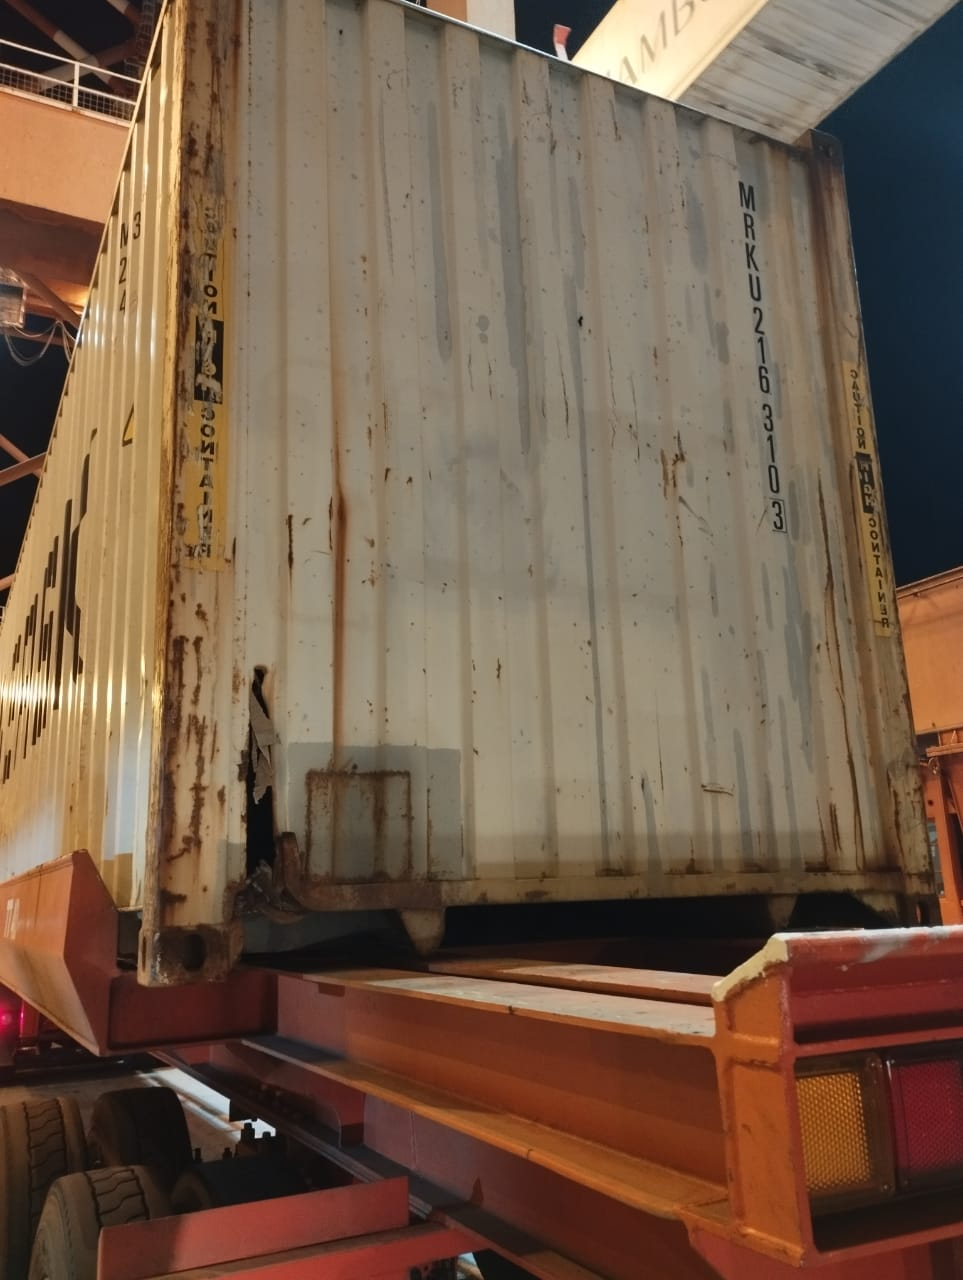dented: (201, 650, 347, 899)
rust: (318, 472, 363, 611)
